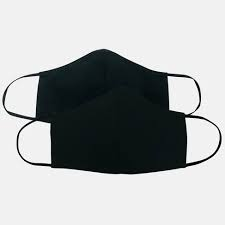cloth_mask: (17, 85, 225, 176)
